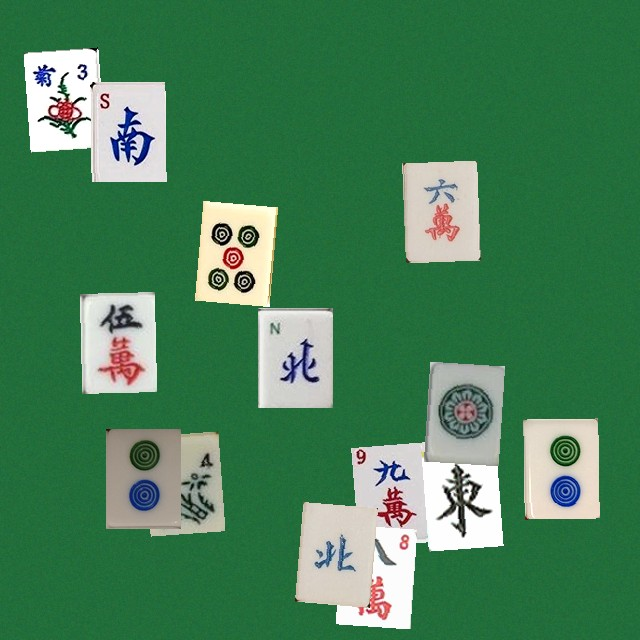tile: (257, 307, 332, 407), (351, 442, 426, 542), (143, 431, 218, 531), (23, 47, 98, 147), (90, 81, 165, 181), (523, 418, 598, 518), (335, 524, 410, 624), (421, 446, 496, 546), (105, 428, 180, 528), (402, 160, 477, 260), (423, 361, 498, 461), (79, 292, 154, 392), (194, 200, 269, 300), (294, 502, 369, 602)
